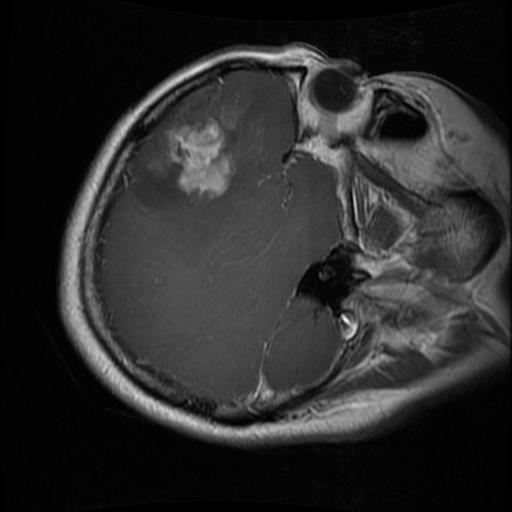glioma: (164, 115, 232, 204)
